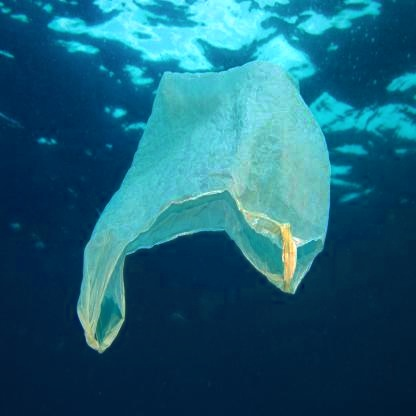pbag: (76, 60, 331, 356)
